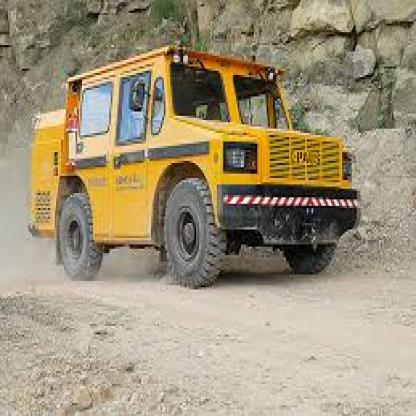light_vehicle: (42, 37, 376, 298)
